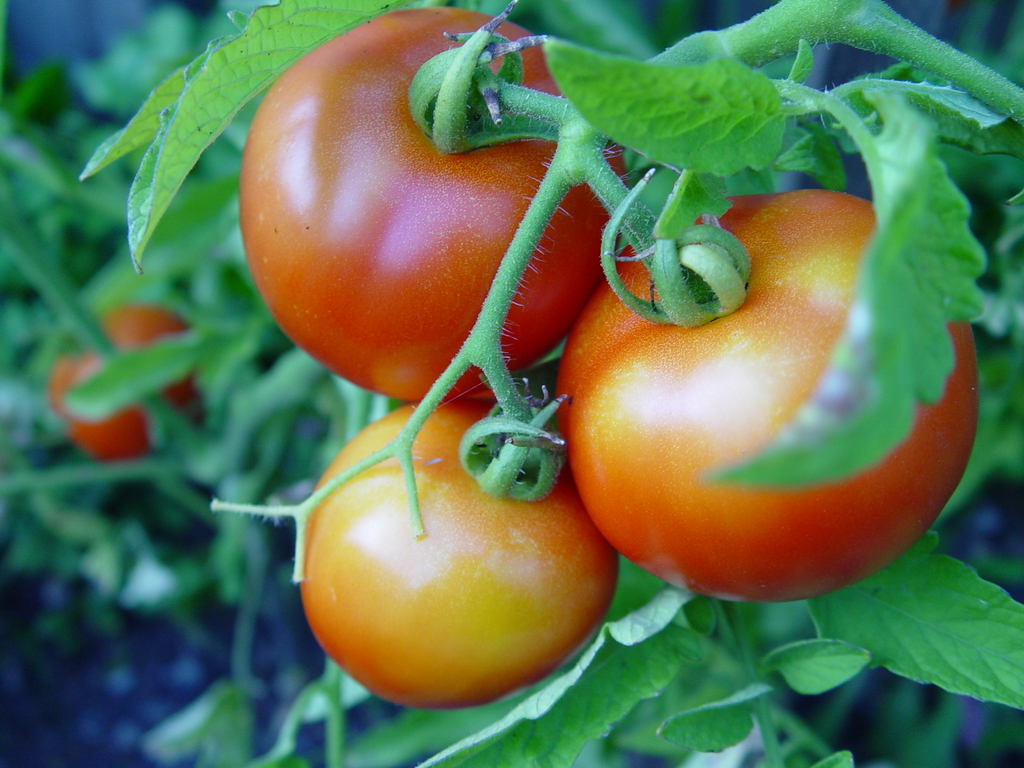Tomato: (542, 144, 984, 605), (241, 5, 629, 401), (301, 403, 620, 703), (51, 298, 193, 457)
